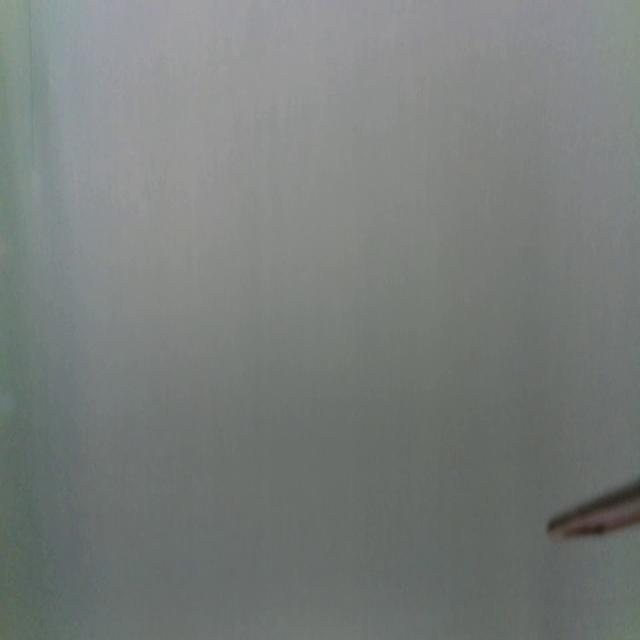crease: (26, 0, 39, 171)
